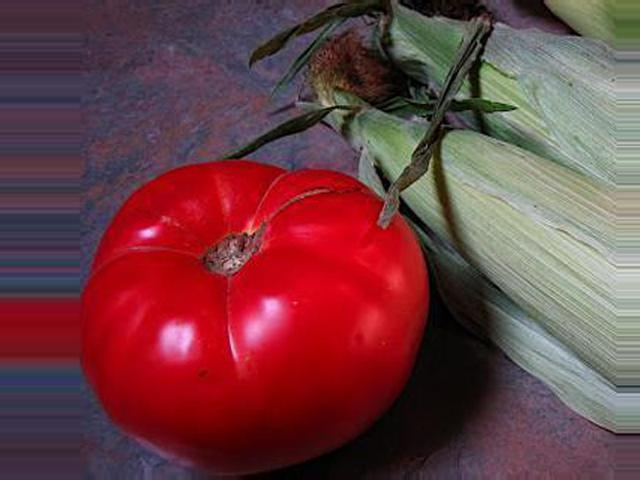tomato: (81, 159, 428, 473)
